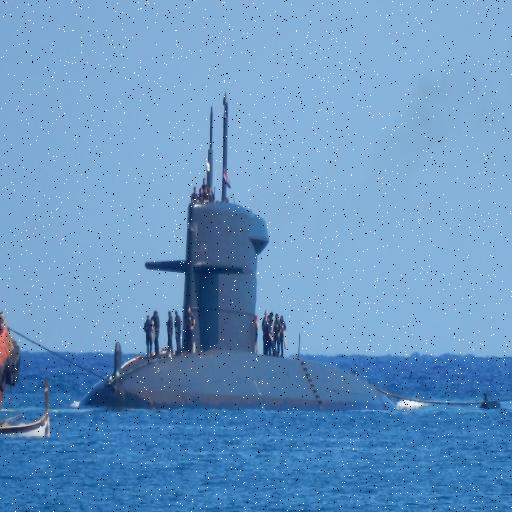submarine: (76, 51, 435, 410)
